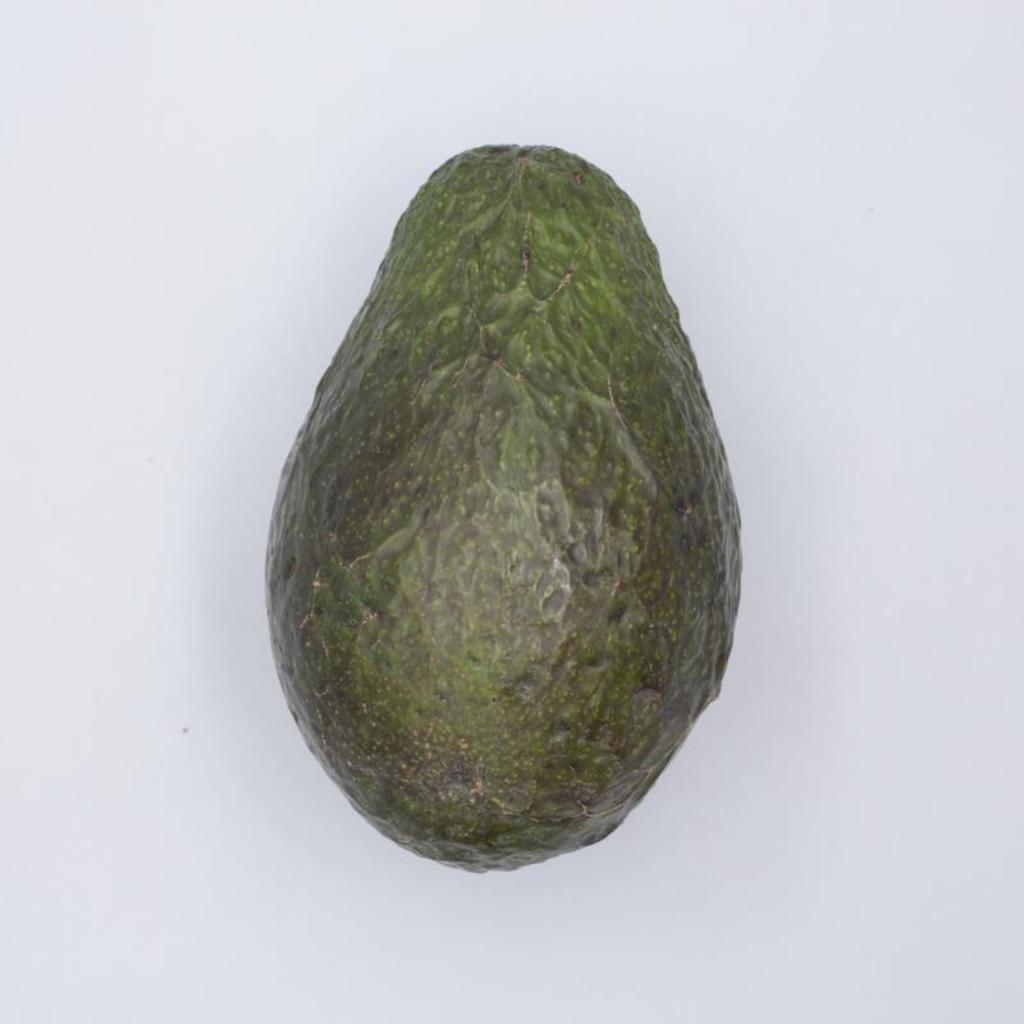healthy: (268, 145, 740, 869)
